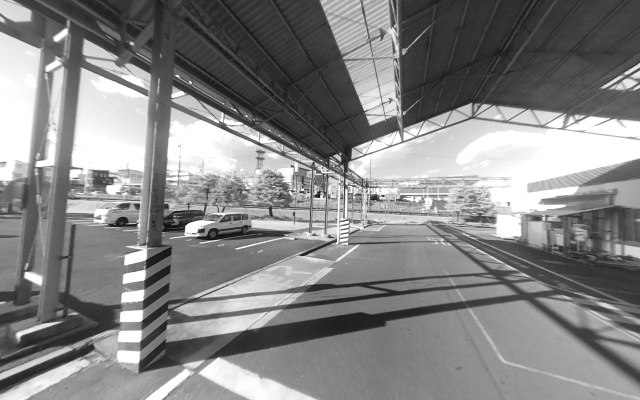bollard: (117, 246, 170, 372), (337, 219, 350, 247)
